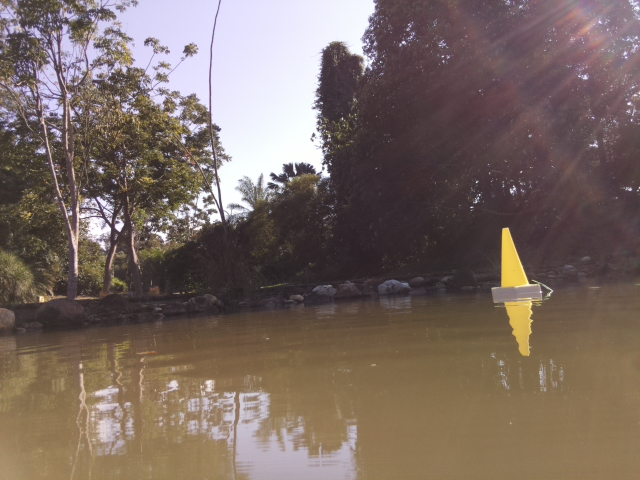checkpoint: (489, 226, 546, 302)
